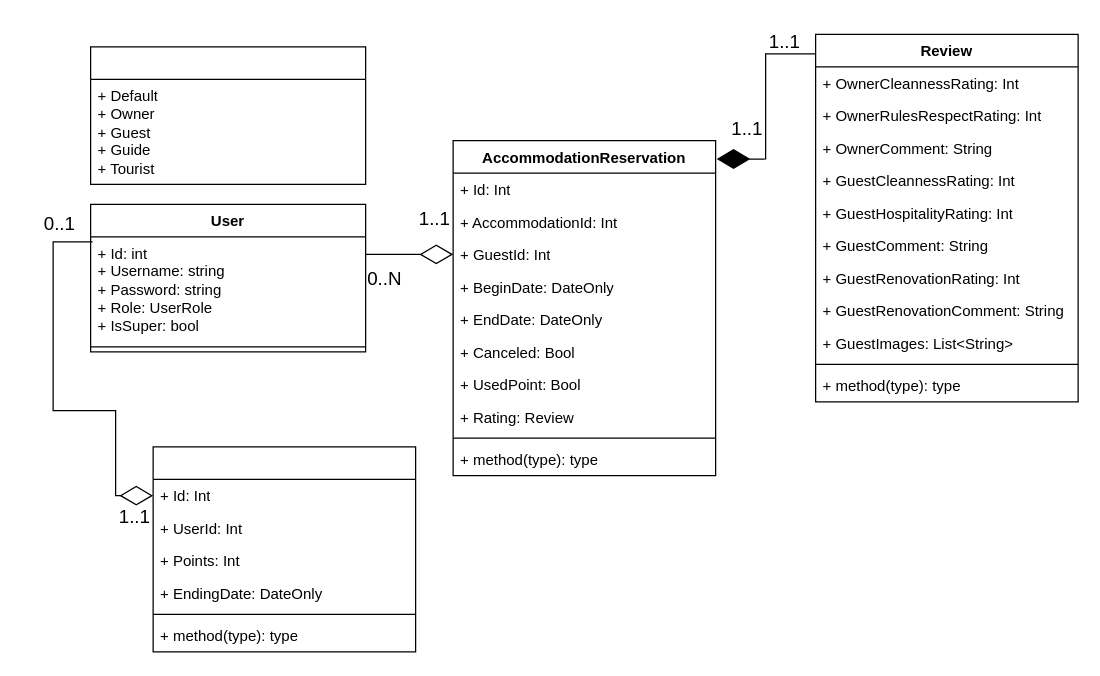
Some shapes in this 1100 by 676 pixel diagram are drawn without their labels. The shapes that lost their labels are listed below. From the top down, each one's box as (x1, y1, x2, y2) in pixels, then its label:
(89, 46, 366, 184): <<enum>> UserRole
(152, 446, 416, 652): SuperGuest
